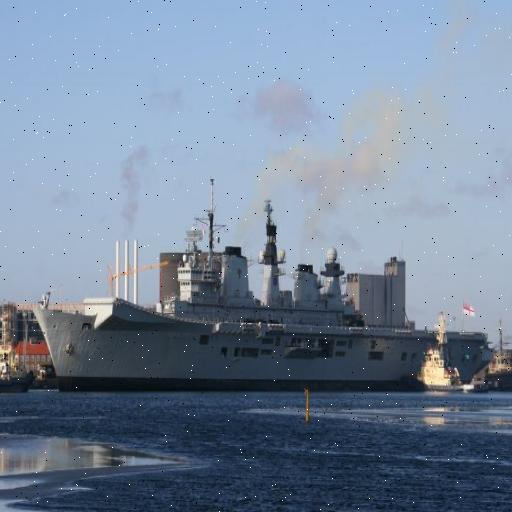Portanaves: (22, 173, 501, 397)
